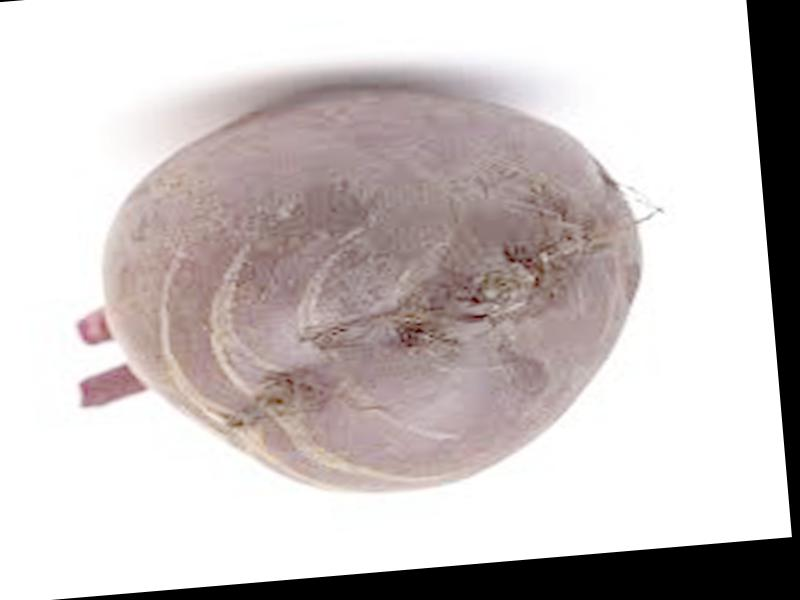Beet: (60, 58, 662, 520)
